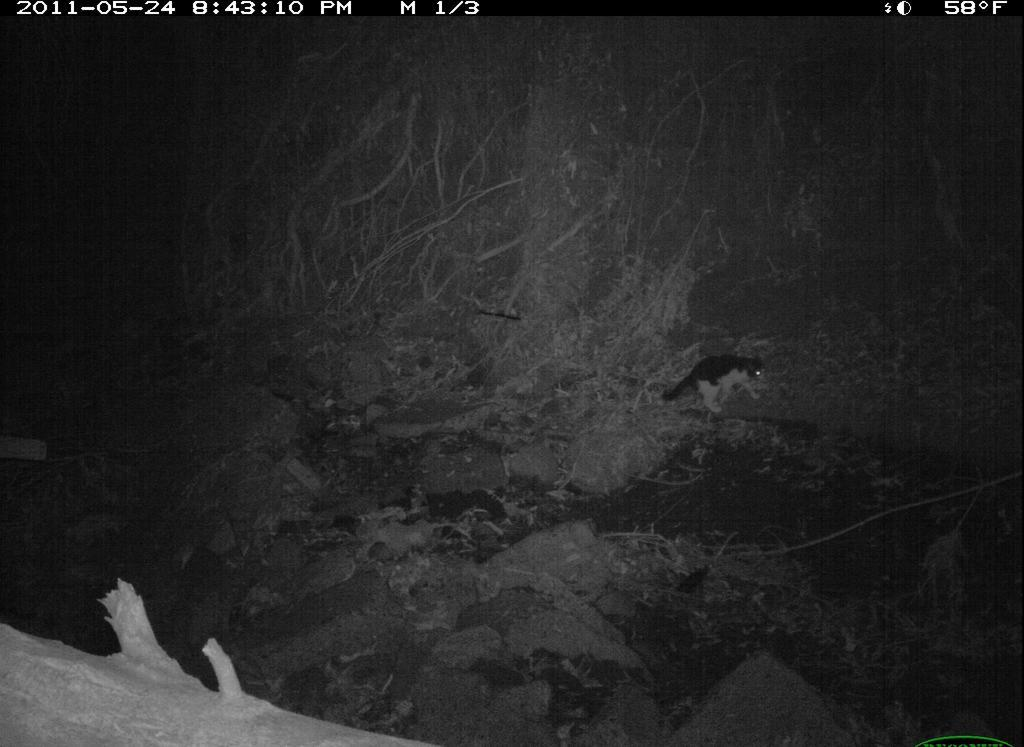cat: (654, 342, 783, 424)
